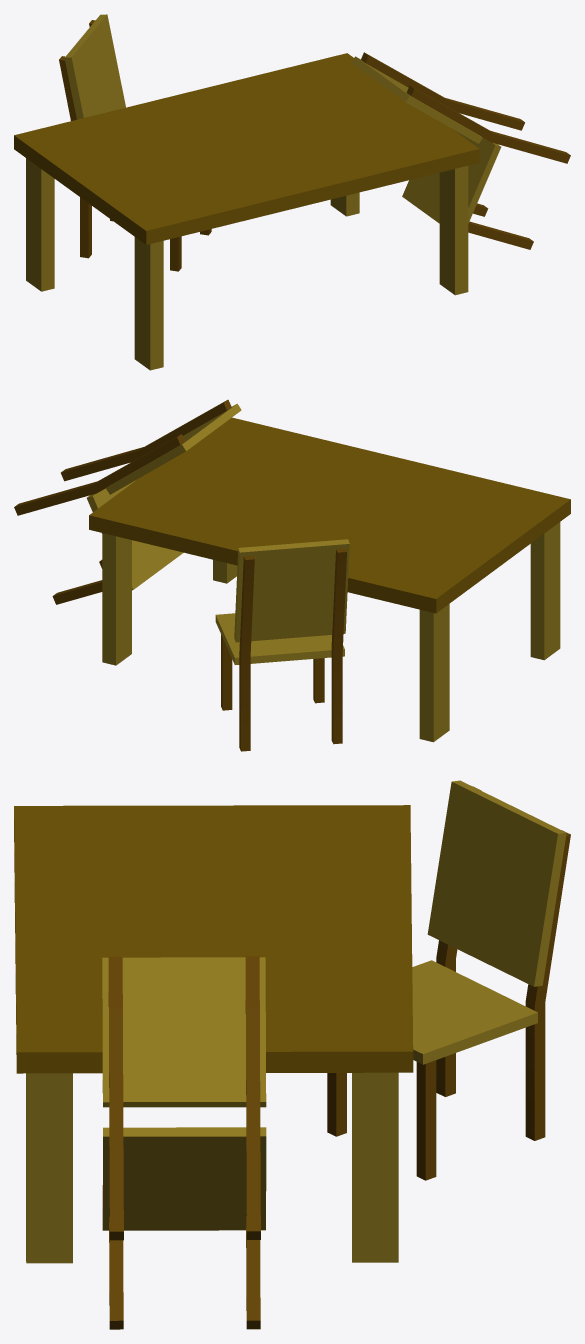
The model's file is Table_1.fbx.
The picture shows the model from 3 angles, top to bottom: view 1: azimuth 30°, elevation 25°; view 2: azimuth 150°, elevation 25°; view 3: azimuth 270°, elevation 25°; orthographic projection. The views are drawn at different scales.
Visible parts, largest first — view 1: polySurface1; view 2: polySurface1; view 3: polySurface1.
Boxes of the visible parts, box(x1,y1,x2,y2) form: polySurface1: box(14, 14, 570, 370); polySurface1: box(14, 399, 570, 751); polySurface1: box(14, 780, 570, 1329).
Bounding box in the file's own units: 29.94 × 12.51 × 20.89.
